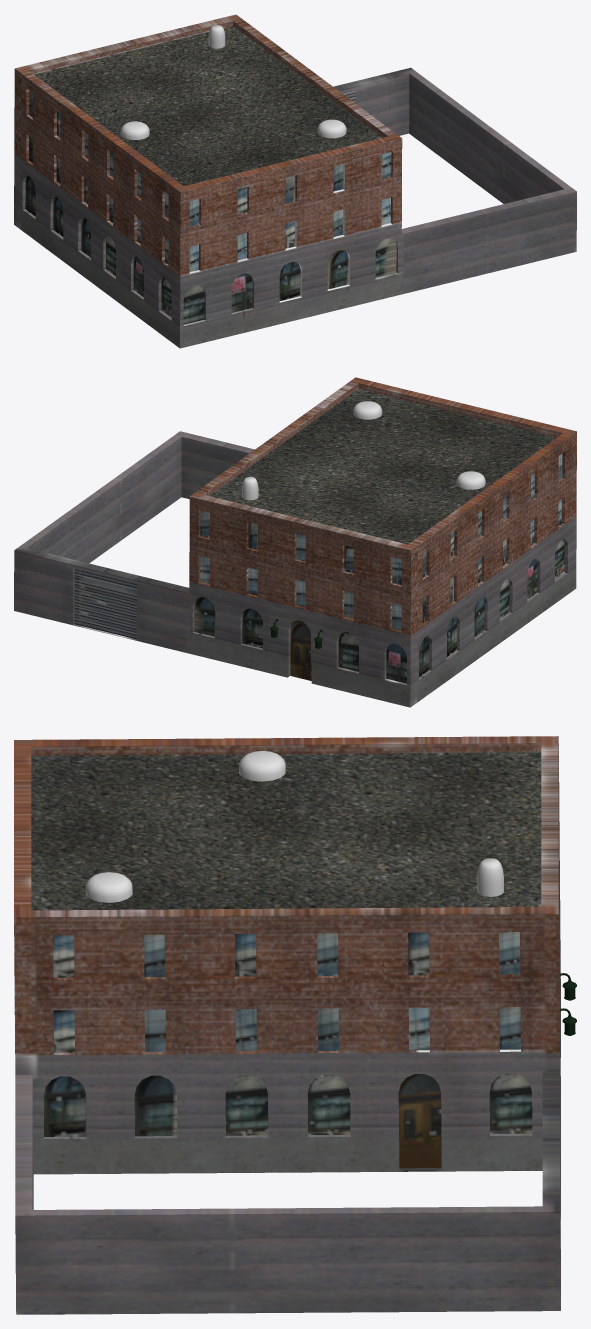
Rendered from house_walls.obj.
The picture shows the model from 3 angles, top to bottom: view 1: azimuth 30°, elevation 25°; view 2: azimuth 150°, elevation 25°; view 3: azimuth 270°, elevation 25°; orthographic projection. The views are drawn at different scales.
Visible parts, largest first — view 1: 10082_Police_Station_V1_L3; view 2: 10082_Police_Station_V1_L3; view 3: 10082_Police_Station_V1_L3.
Part boxes in pixels (x1=…): 10082_Police_Station_V1_L3: x1=14, y1=14, x2=576, y2=348; 10082_Police_Station_V1_L3: x1=14, y1=377, x2=576, y2=707; 10082_Police_Station_V1_L3: x1=14, y1=736, x2=576, y2=1314.
Size of the model in its own units: 25.31 by 10.44 by 18.96.
